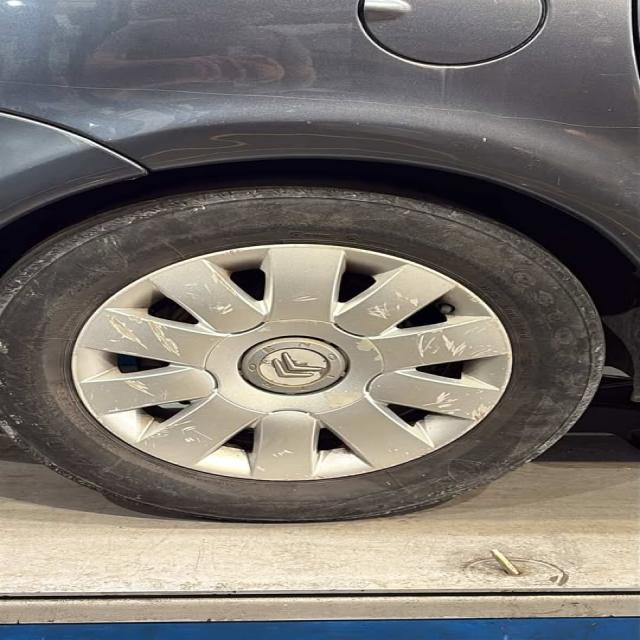jante: (69, 246, 514, 480)
roda: (0, 183, 609, 526)
